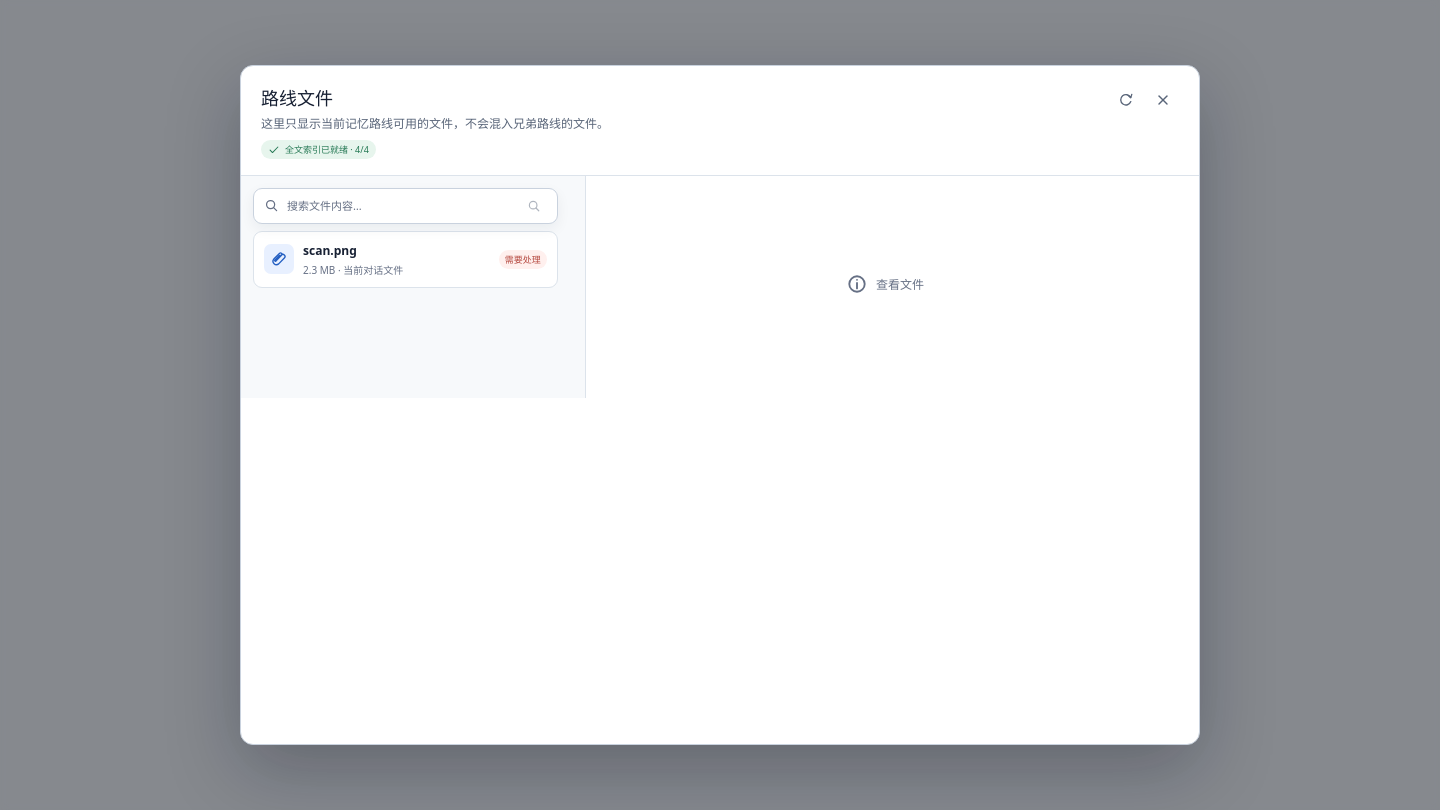
it: AttachmentManager › keeps unsupported image OCR visible and can retry an unbound asset
Click the button "scan.png 2.3 MB · 当前对话文件 需要处理" at x=330, y=250, box [253,230,558,288]
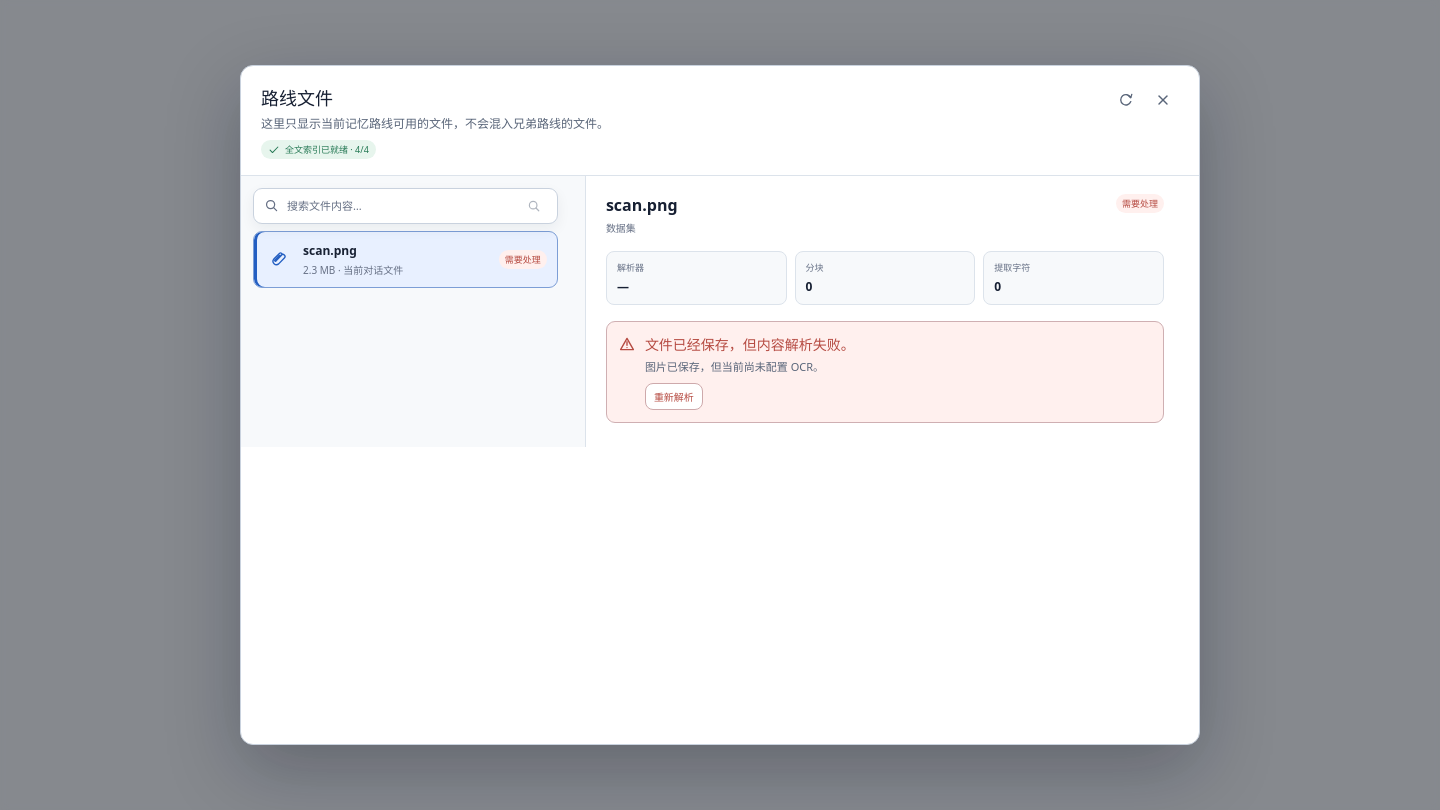
Now the text "图片已保存，但当前尚未配置 OCR。" is shown, box [645,358,855,374]
Click the button "重新解析" at x=674, y=396, box [645,382,703,410]
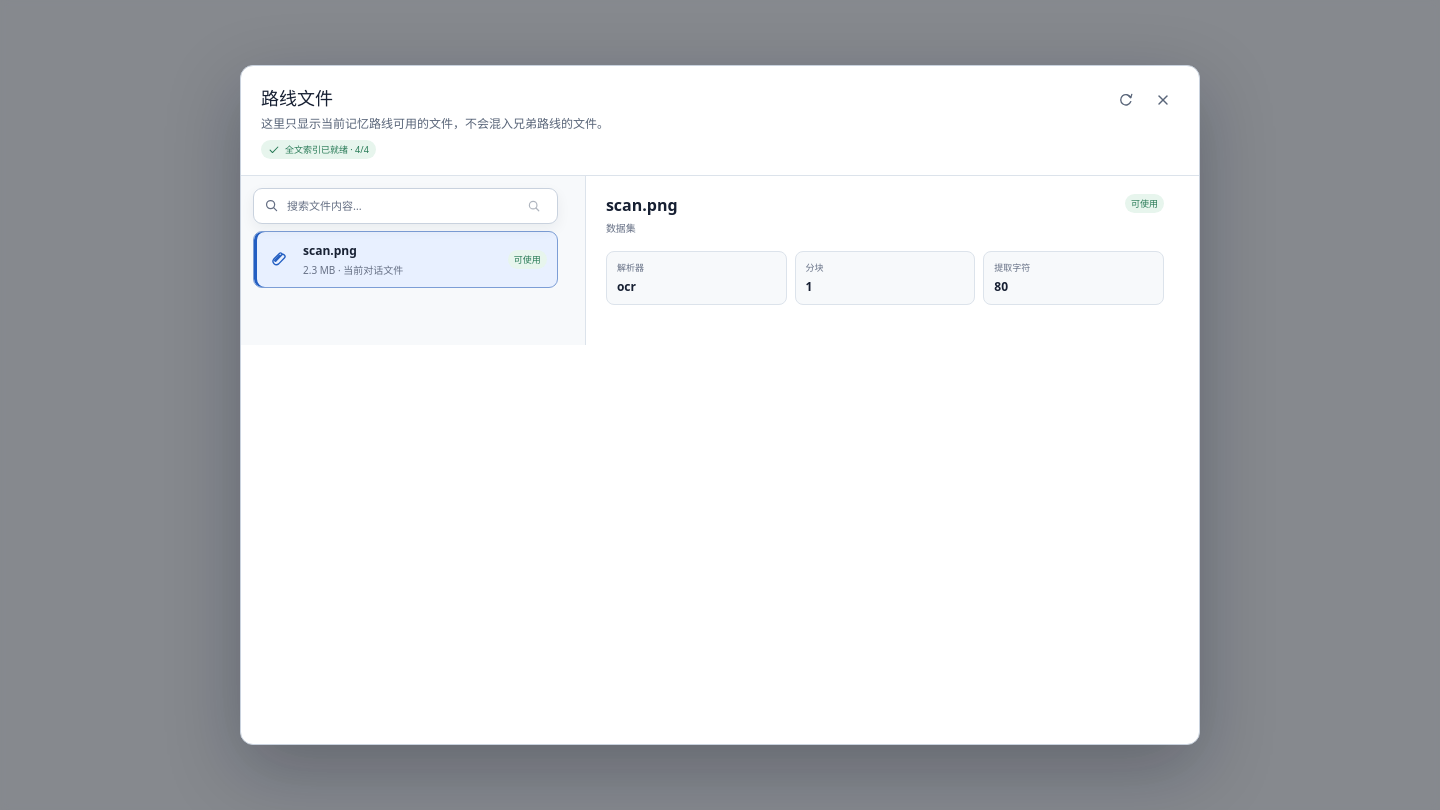
Now the text "ocr" is shown, box [617,278,636,294]
